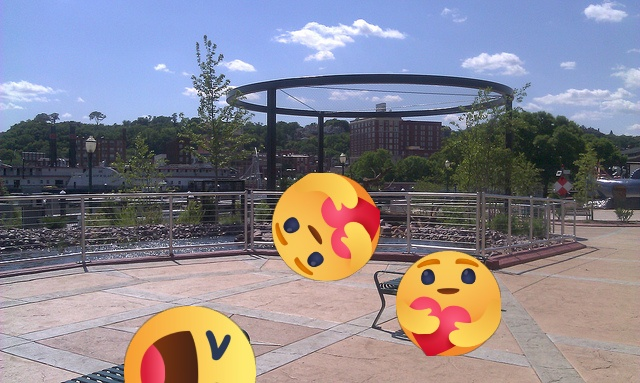care: (272, 173, 380, 281), (396, 251, 501, 356)
haha: (124, 306, 256, 383)
